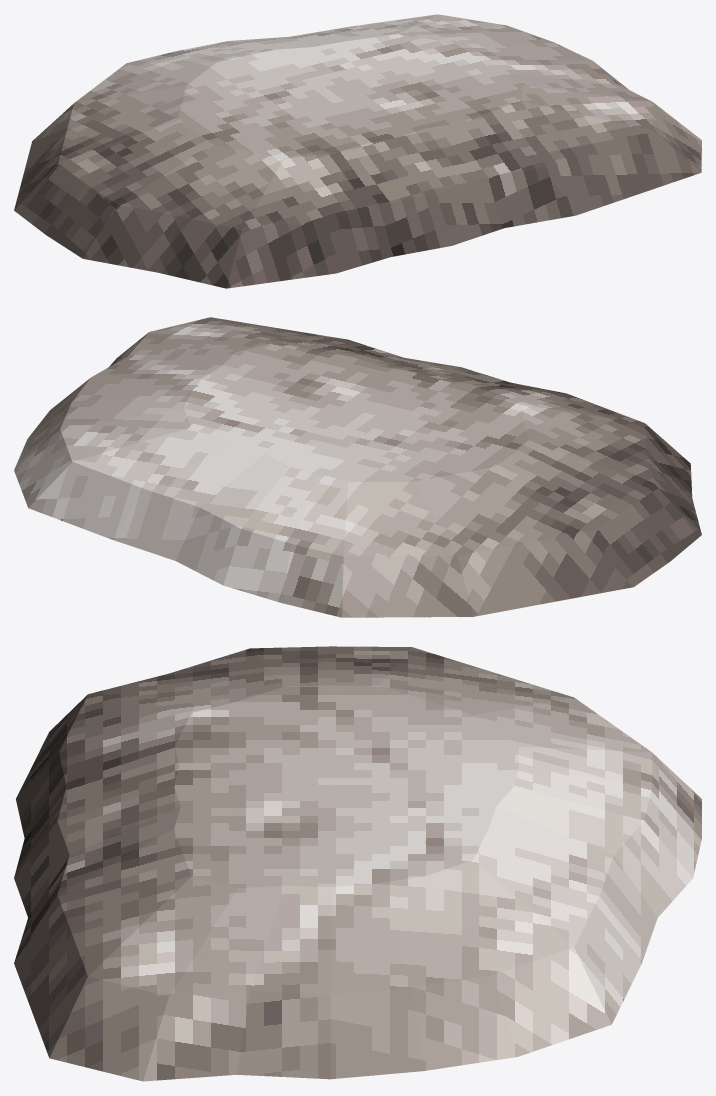
Rendered from Rock_316x00.gltf.
3 renders of one model, top to bottom at view 1: azimuth 30°, elevation 25°; view 2: azimuth 150°, elevation 25°; view 3: azimuth 270°, elevation 25°, orthographic. The views are drawn at different scales.
Visible parts, largest first — view 1: Rock_316x00; view 2: Rock_316x00; view 3: Rock_316x00.
Boxes of the visible parts, x1,y1,x2,y2 form: Rock_316x00: [14, 14, 701, 288]; Rock_316x00: [14, 317, 701, 617]; Rock_316x00: [14, 646, 701, 1081].
Size of the model in its own units: 5.96 by 0.6374 by 4.28.
Materials: 1 (1 with a texture image).
